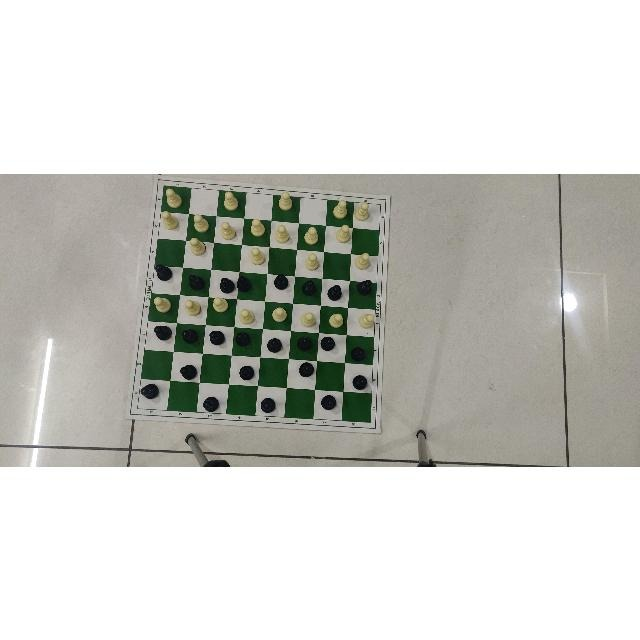black-pawn: (153, 323, 173, 341), (140, 382, 160, 400), (154, 263, 173, 281), (188, 272, 206, 291), (202, 395, 220, 413), (236, 273, 253, 292), (300, 278, 317, 296), (356, 278, 373, 296), (320, 394, 337, 412), (208, 328, 226, 345), (181, 326, 199, 343), (180, 363, 198, 380), (259, 396, 276, 413), (220, 276, 236, 294), (273, 272, 289, 290), (296, 335, 314, 351), (327, 283, 343, 300), (350, 345, 366, 362), (234, 331, 251, 347), (352, 374, 368, 390), (320, 335, 336, 351), (299, 362, 315, 378), (267, 337, 283, 353), (239, 364, 255, 380)
white-pawn: (165, 187, 183, 209), (161, 210, 180, 230), (192, 212, 210, 233), (331, 197, 348, 219), (277, 189, 293, 212), (189, 236, 207, 256), (152, 295, 171, 313), (220, 220, 237, 240), (223, 190, 239, 211), (184, 298, 202, 316), (274, 223, 291, 242), (271, 304, 288, 323), (250, 217, 266, 237), (303, 225, 319, 245), (335, 223, 351, 243), (354, 252, 371, 270), (212, 295, 229, 313), (238, 306, 255, 324), (304, 251, 320, 270), (250, 245, 266, 264), (354, 201, 369, 221), (358, 311, 375, 328), (300, 310, 316, 328), (328, 311, 344, 328)
